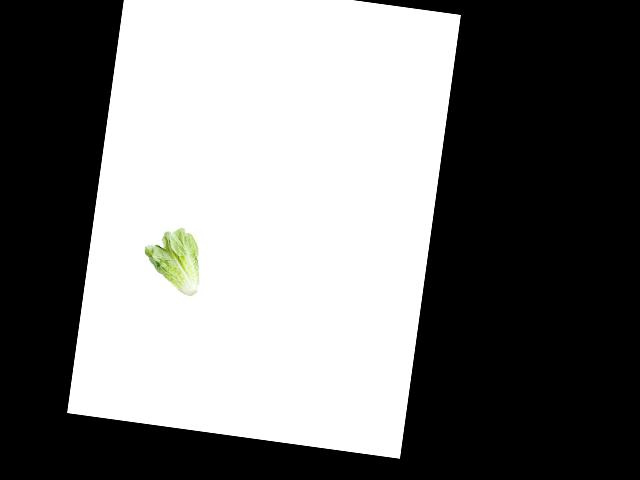lettuce: (136, 223, 211, 301)
